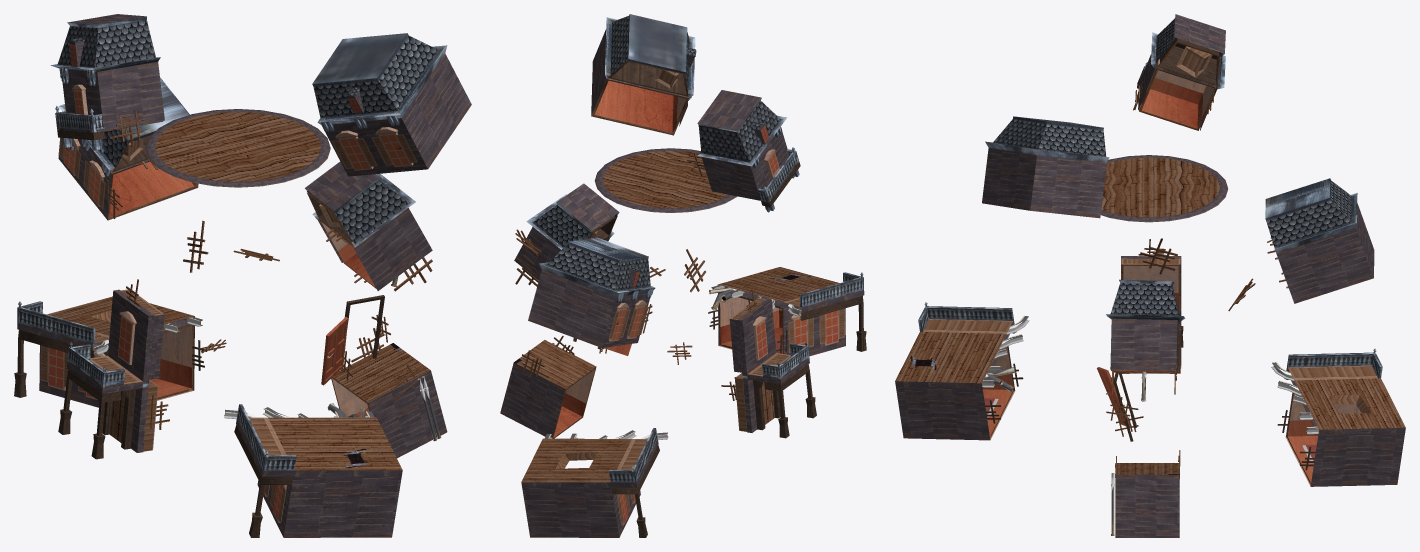
The model's file is Spooky_Tower_Floating_House_01_Art.glb.
The picture shows the model from 3 angles, left to right: view 1: azimuth 30°, elevation 25°; view 2: azimuth 150°, elevation 25°; view 3: azimuth 270°, elevation 25°; orthographic projection. The views are drawn at different scales.
Parts seen in each view (by area): view 1: Spooky_Tower_Floating_House_01_Art; view 2: Spooky_Tower_Floating_House_01_Art; view 3: Spooky_Tower_Floating_House_01_Art.
Boxes of the visible parts, box(x1,y1,x2,y2) form: Spooky_Tower_Floating_House_01_Art: box(14, 14, 471, 537); Spooky_Tower_Floating_House_01_Art: box(500, 14, 866, 537); Spooky_Tower_Floating_House_01_Art: box(895, 14, 1405, 537).
Size of the model in its own units: 15.7 by 20.46 by 23.25.
6 materials, 6 textured.
